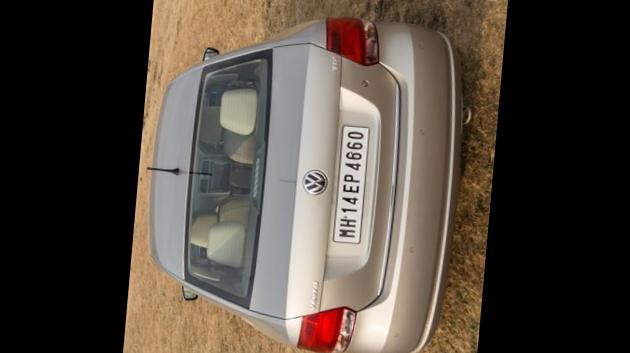plate: (320, 117, 377, 244)
